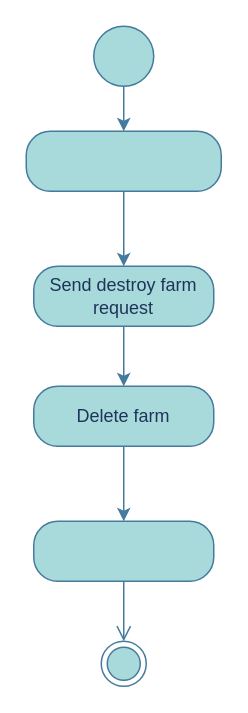
This 248x713 diagram has some shape labels left out. The shapes that lost their labels are listed below. From the top down, each one's centre as x and y in pixels, then its label:
At point (123, 160): "Open view farm page".
At point (123, 550): "Show success message".
